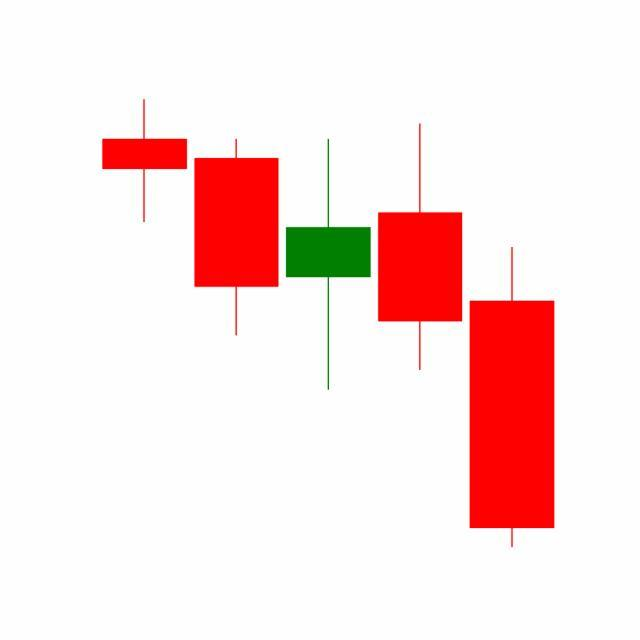Three Outside Up-Down: (280, 120, 555, 549)
